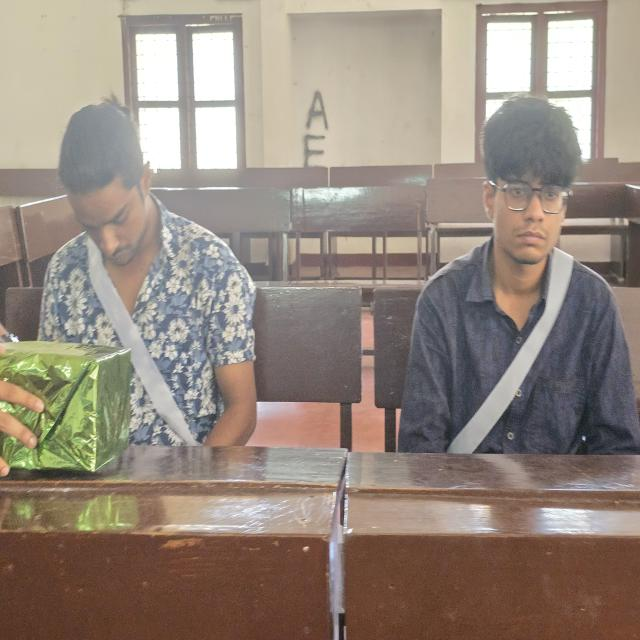seatbelt: (62, 244, 236, 412), (441, 253, 606, 426)
